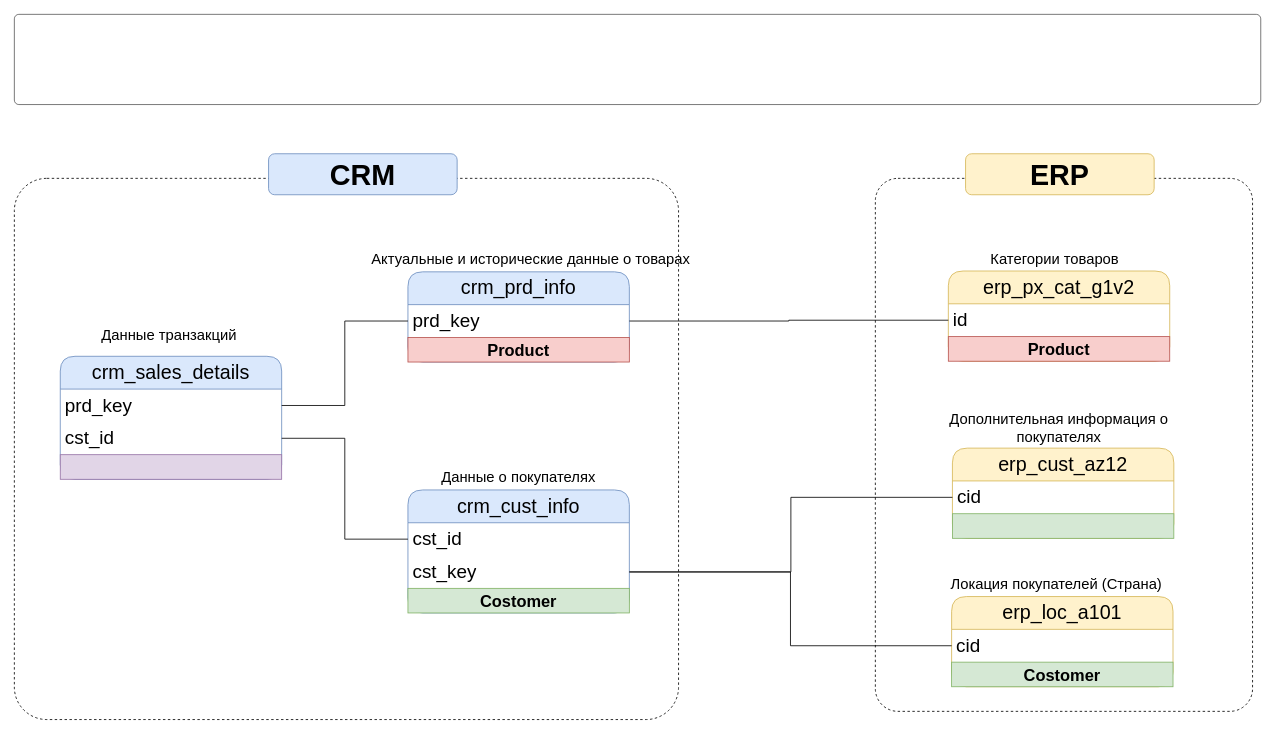
This 1275x734 diagram has some shape labels left out. Here are the shapes that lost their labels. From the top down, the centre of each, then its label:
At (x=637, y=59): "Интеграция данных (Как таблицы связаны между собой)".
At (x=170, y=466): "Sales".
At (x=1063, y=525): "Customer".
